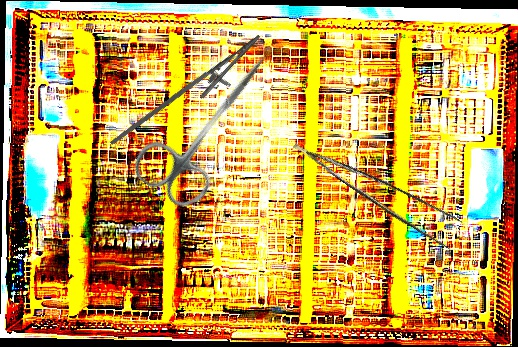Iris Scissors: (126, 30, 294, 216)
Needle Holder: (109, 17, 271, 173)
Tissue Forceps: (292, 117, 470, 257)
